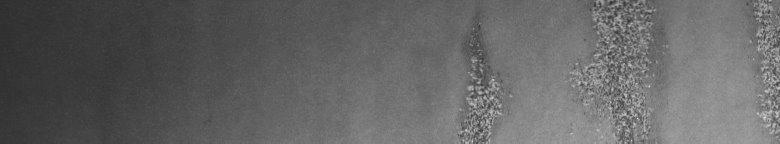hc: (565, 4, 658, 136)
